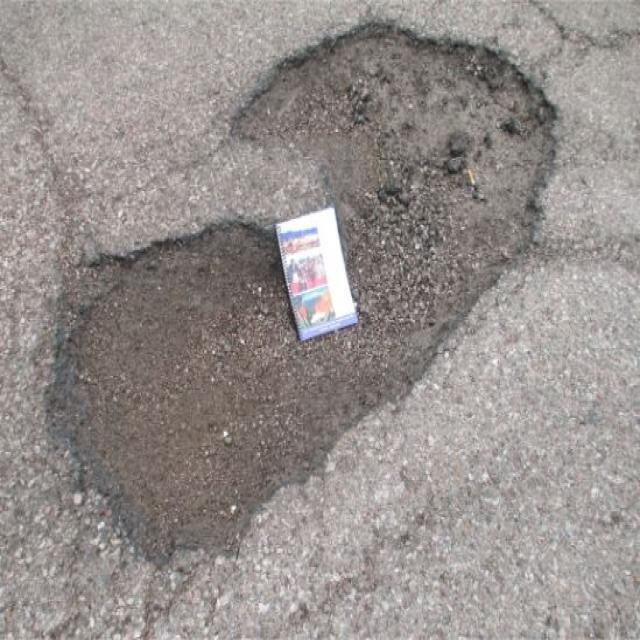pothole: (37, 11, 570, 578)
